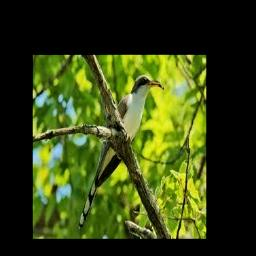Cuckoo: (79, 75, 162, 228)
